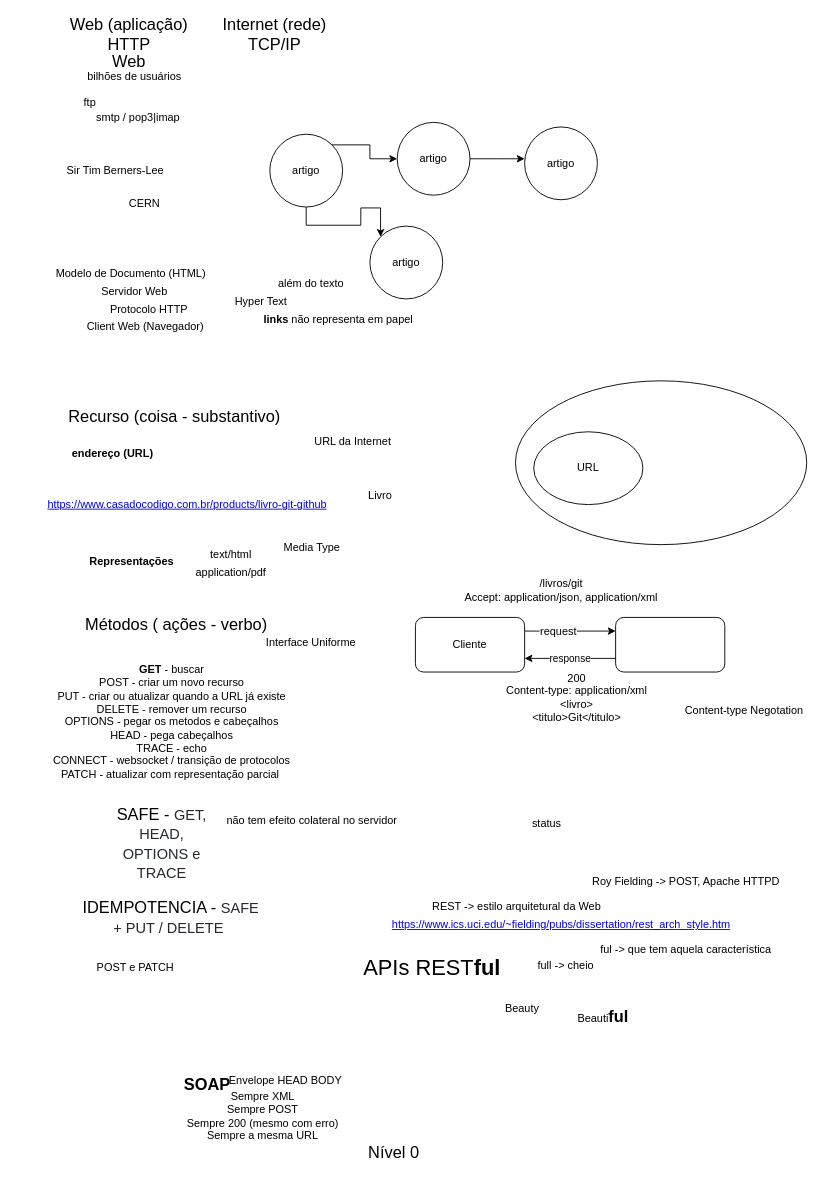
Image size: 827x1182. Some labels were removed from this diagram. The shapes that lost their labels are listed below. From the top down, each one's box as (x1, y1, x2, y2) in pixels, then its label:
(515, 380, 807, 545): URI
(615, 617, 725, 672): Servidor
